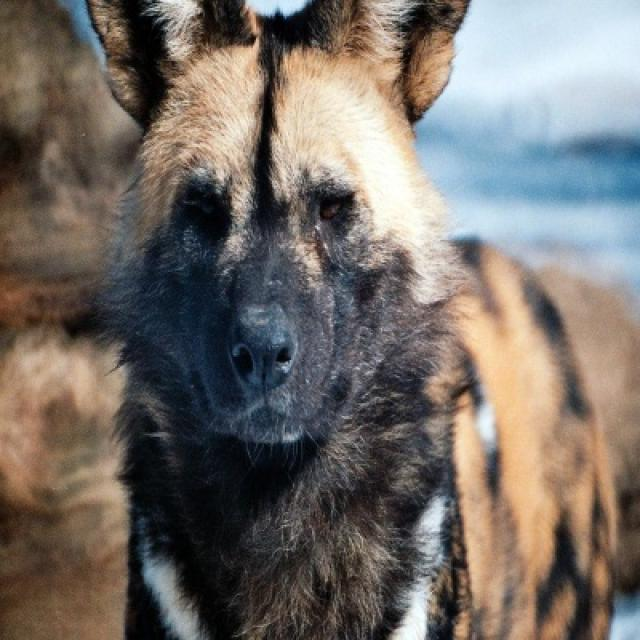hyena: (82, 0, 638, 638)
